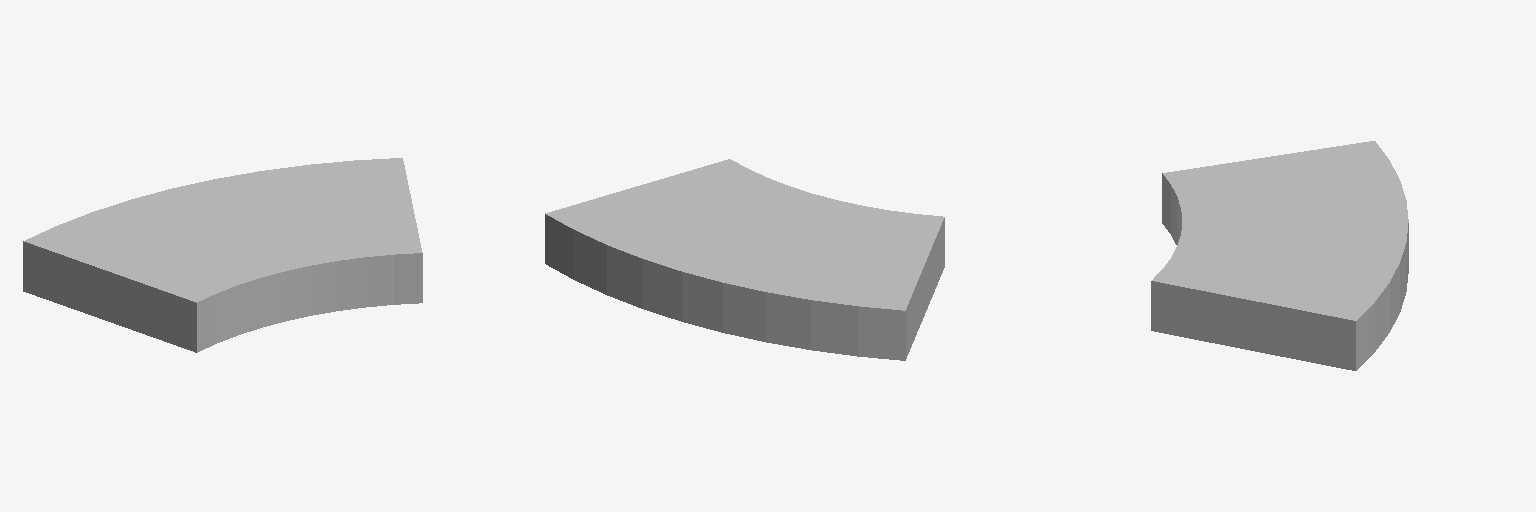
File: sector45.obj
3 renders of one model, left to right at view 1: azimuth 30°, elevation 25°; view 2: azimuth 150°, elevation 25°; view 3: azimuth 270°, elevation 25°, orthographic.
Parts seen in each view (by area): view 1: Окружность; view 2: Окружность; view 3: Окружность.
Boxes of the visible parts, x1=… form: Окружность: x1=23, y1=158, x2=422, y2=352; Окружность: x1=545, y1=159, x2=944, y2=360; Окружность: x1=1151, y1=141, x2=1408, y2=370.
Bounding box in the file's own units: 3.85 × 0.5 × 2.32.